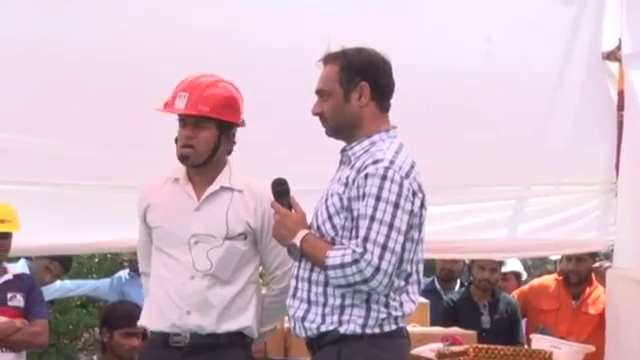helmet: (154, 75, 248, 130), (528, 334, 596, 360), (501, 257, 528, 282)
helmet_off: (323, 50, 404, 140), (90, 296, 150, 360), (27, 254, 73, 290), (469, 257, 503, 296), (559, 253, 597, 284), (434, 255, 465, 289)
helmet_on: (153, 74, 249, 191), (0, 198, 20, 258), (500, 257, 527, 296)
person: (267, 46, 433, 360), (134, 78, 294, 360), (518, 249, 607, 359), (0, 199, 49, 359), (7, 252, 148, 306), (443, 262, 525, 342), (420, 255, 470, 328)
